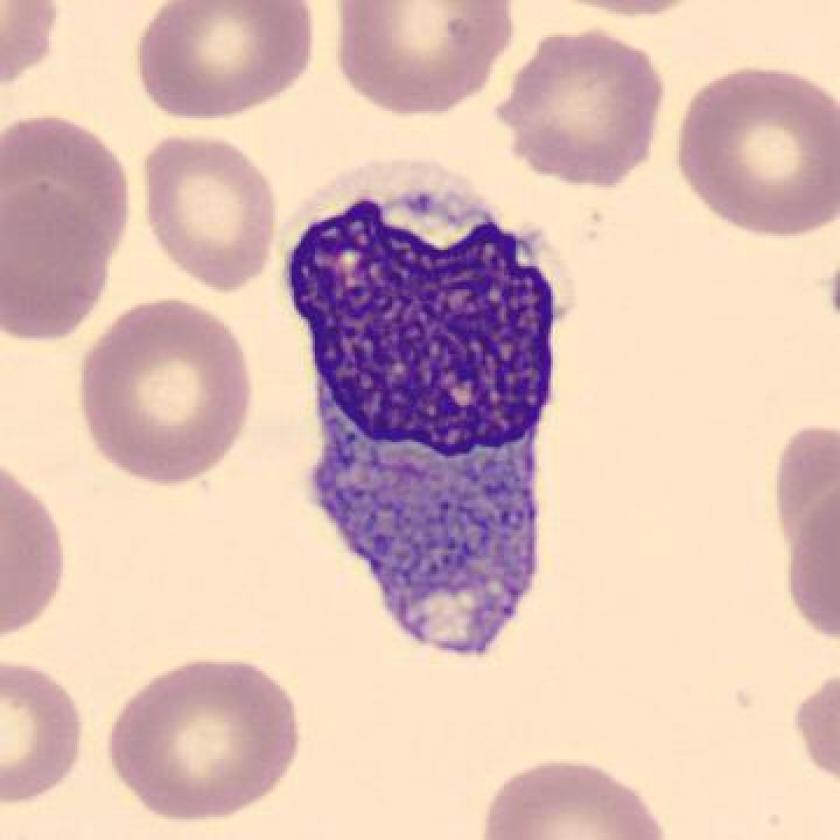monocyte: (279, 151, 577, 672)
